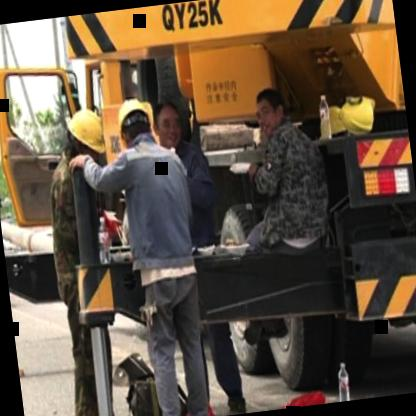head: (146, 95, 188, 156), (248, 84, 292, 141)
helmet: (107, 92, 160, 162), (64, 102, 112, 166)
